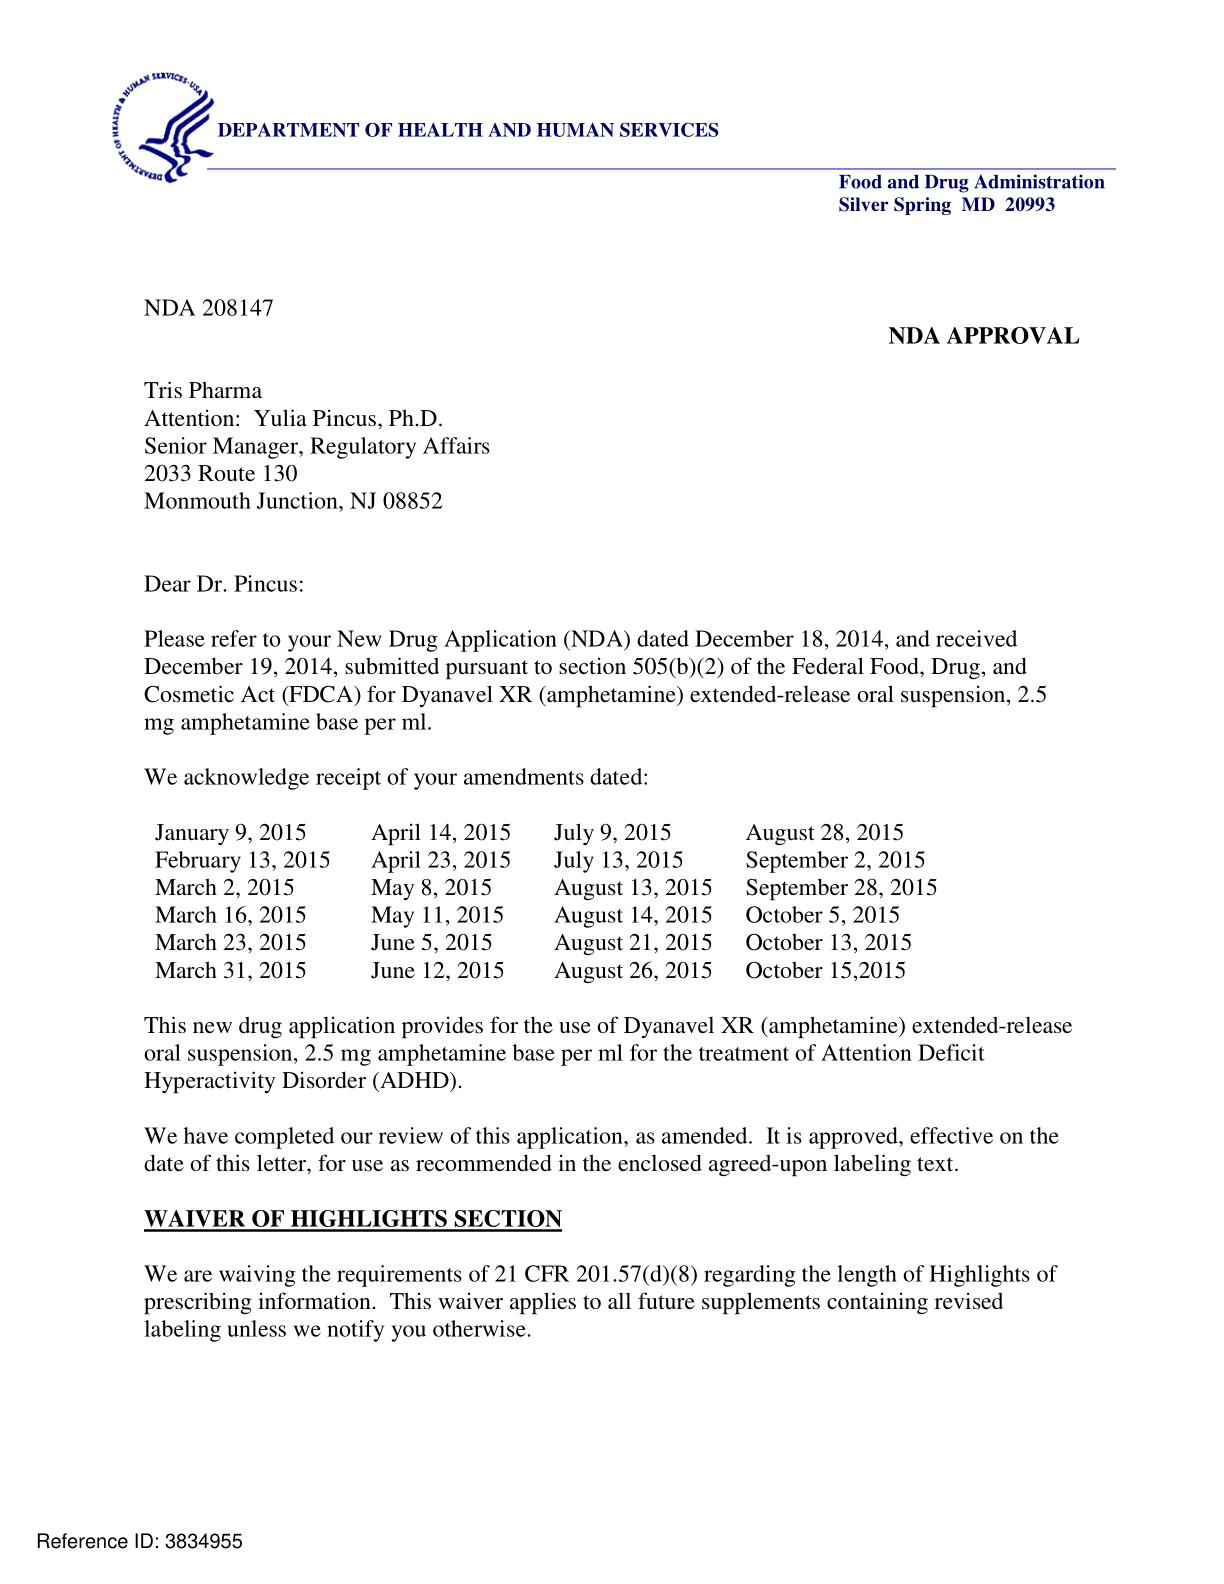nolines: (149, 816, 941, 985)
